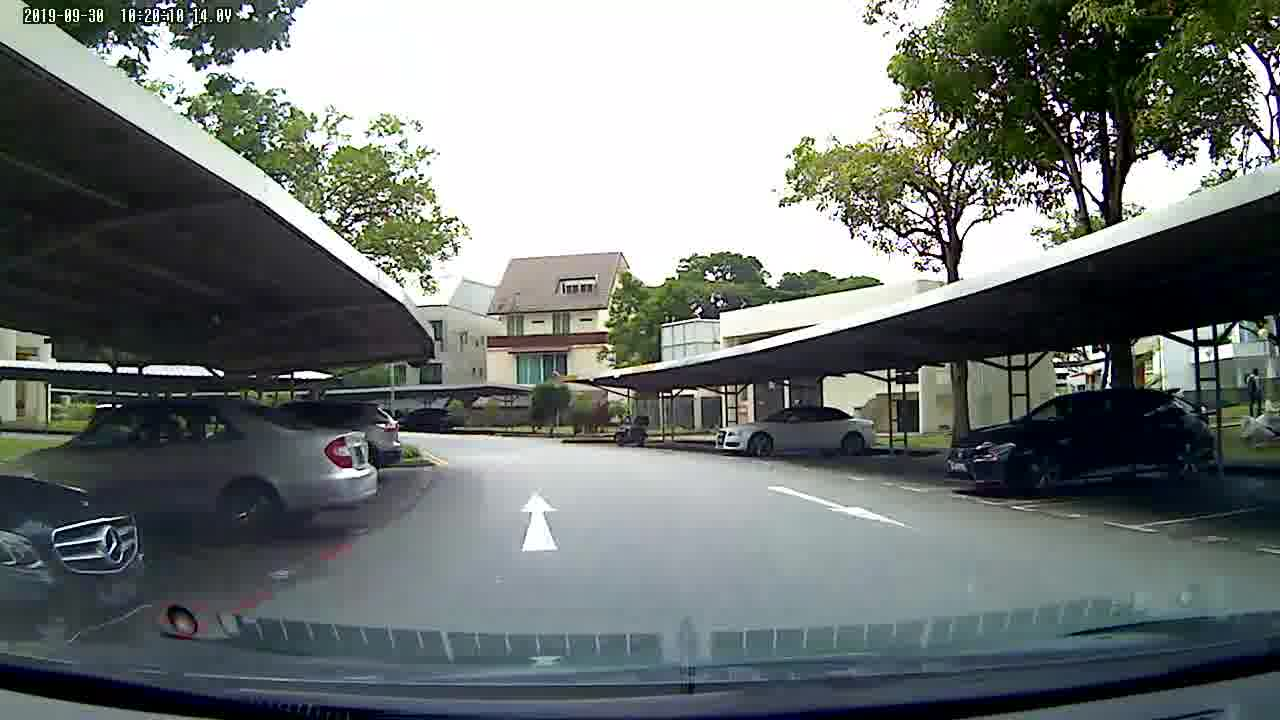car: (1, 404, 394, 549), (1, 463, 172, 646), (946, 388, 1227, 499), (705, 398, 899, 472)
